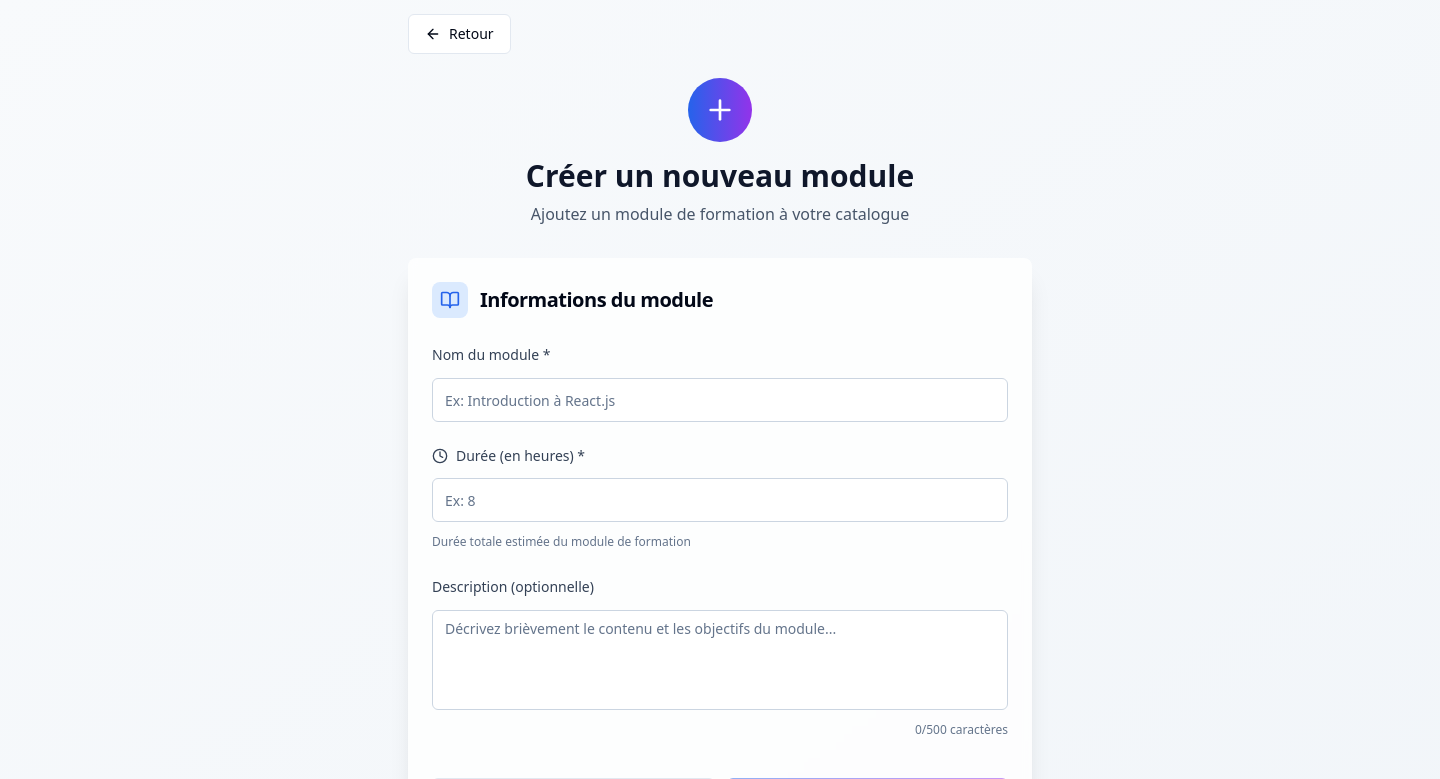
AddModule Component › enables submit button when form is valid
The width and height of the screenshot is (1440, 779).
Type "Test Module" into the field labelled "Nom du module *" at (720, 400), box x1=432 y1=378 x2=1008 y2=422
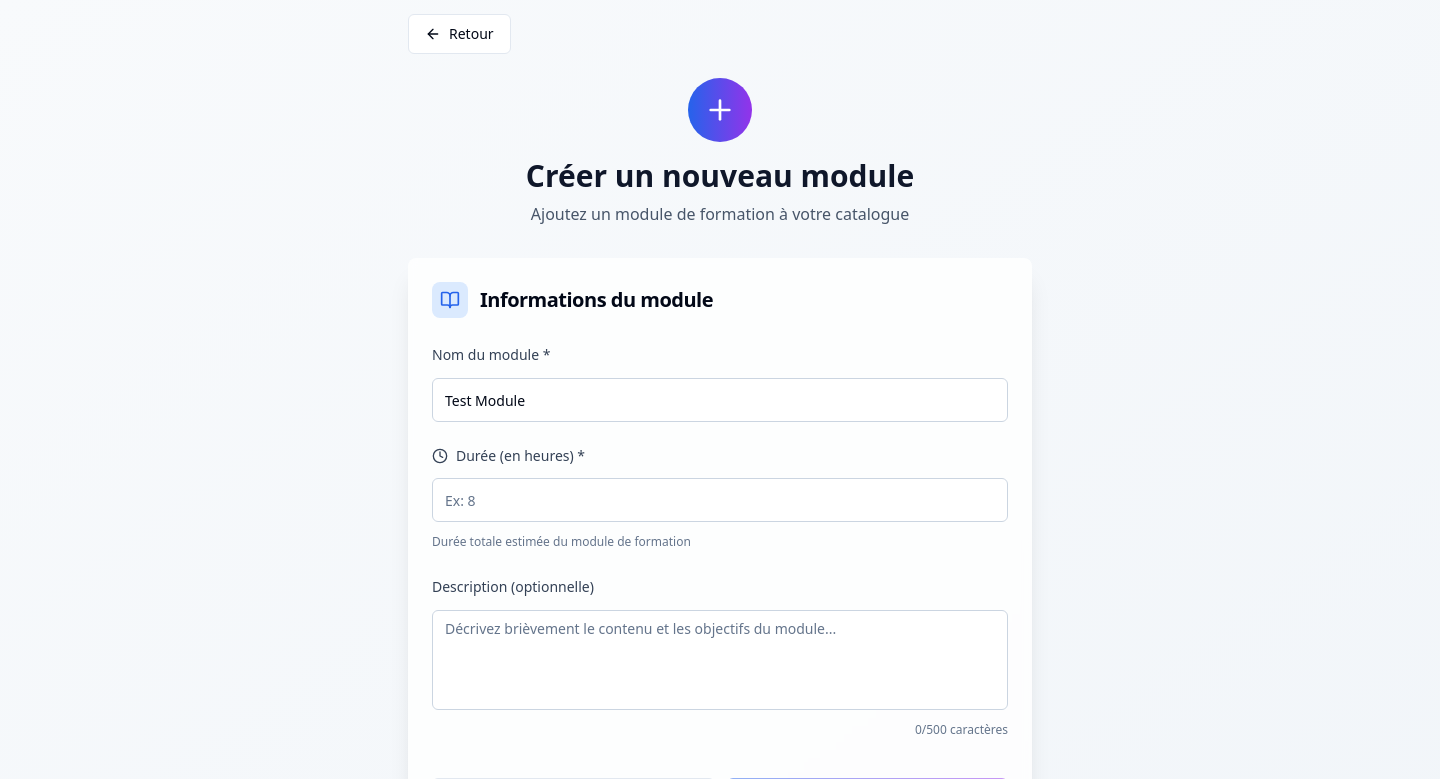
Type "10" into the number field labelled "Durée (en heures) *" at (720, 500), box x1=432 y1=478 x2=1008 y2=522
(page scrolled)
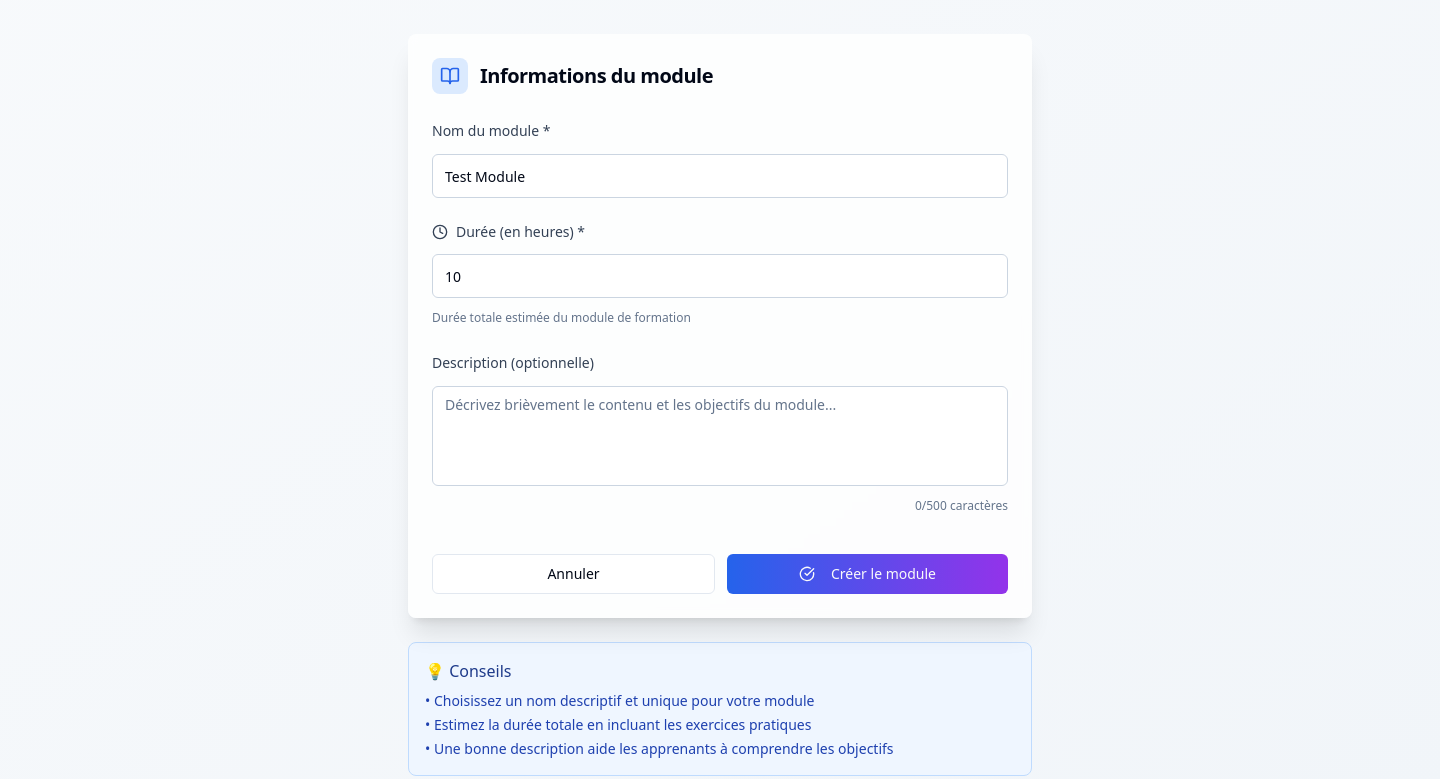
Expected: the button "Créer le module" is enabled, x1=727 y1=554 x2=1008 y2=594
